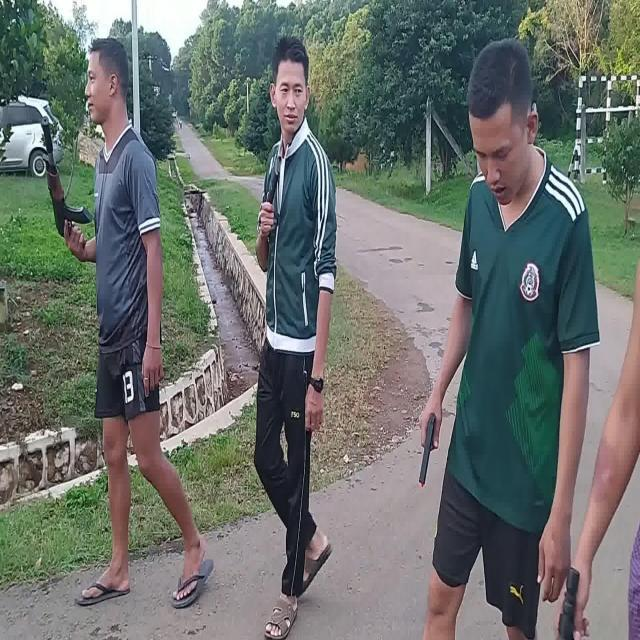gun: (42, 117, 94, 249), (420, 414, 437, 486)
